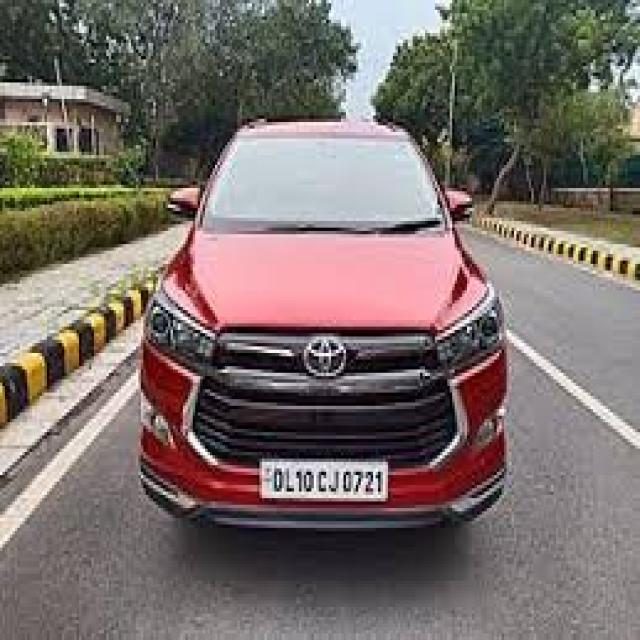light_vehicle: (138, 120, 508, 532)
